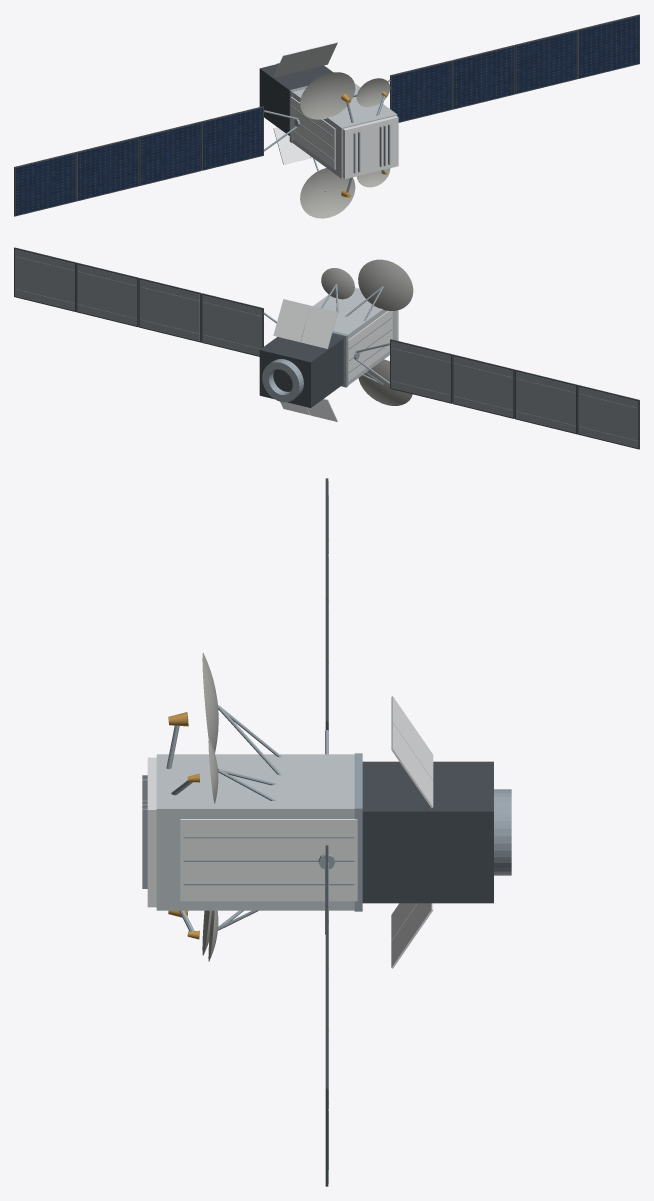
Rendered from ref-ssl-1300x-29162.glb.
3 views of the same model, one above another, from view 1: azimuth 30°, elevation 25°; view 2: azimuth 150°, elevation 25°; view 3: azimuth 270°, elevation 25° (orthographic). The views are drawn at different scales.
Visible parts, largest first — view 1: Solar cell panel (×8), Communications reflector (×4), Solar panel frame (×8), Earth-facing deck, Service module, Payload module, Deployed radiator leaf (×3), Radiator face; view 2: Rear array substrate (×8), Communications reflector (×3), Service module, Solar panel frame (×8), Deployed radiator leaf (×3), Payload module, Radiator face, Launch adapter ring, Module interface; view 3: Service module, Payload module, Radiator face, Deployed radiator leaf (×3), Launch adapter ring, Earth-facing deck, Module interface, Communications reflector.
Boxes of the visible parts, x1,y1,x2,y2 form: Solar cell panel (×8): (15,16,639,215); Communications reflector (×4): (300,72,390,218); Solar panel frame (×8): (14,14,639,216); Earth-facing deck: (342,116,398,178); Service module: (259,63,332,135); Payload module: (292,83,397,178); Deployed radiator leaf (×3): (273,42,337,164); Radiator face: (290,96,335,169); Rear array substrate (×8): (15,249,638,448); Communications reflector (×3): (321,259,413,405); Service module: (259,330,343,407); Solar panel frame (×8): (14,247,639,449); Deployed radiator leaf (×3): (273,299,337,421); Payload module: (305,288,397,385); Radiator face: (347,311,392,381); Launch adapter ring: (262,359,303,402); Module interface: (305,324,348,387); Service module: (362,761,493,903); Payload module: (156,754,354,910); Radiator face: (180,819,357,901); Deployed radiator leaf (×3): (391,696,433,968); Launch adapter ring: (494,789,511,875); Earth-facing deck: (147,757,156,907); Module interface: (354,753,362,911); Communications reflector: (202,653,218,752).
Size of the model in its own units: 31.37 by 6.93 by 8.02.
8 materials, 1 textured.
